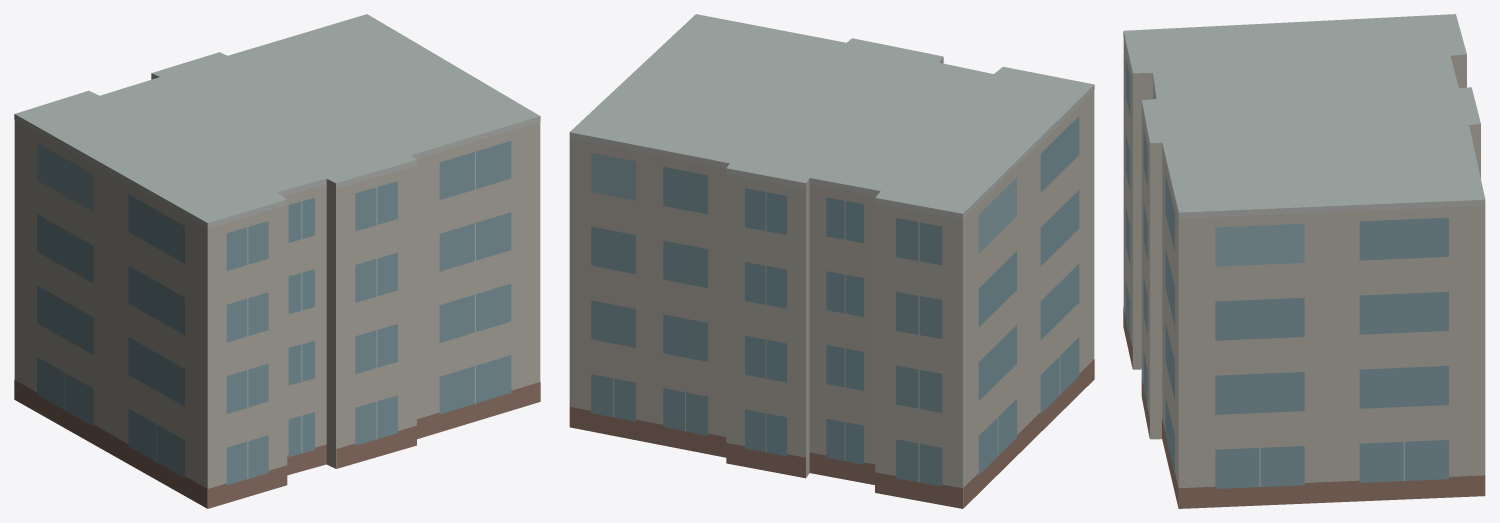
Rendered from survey-upis-32473641.glb.
3 renders of one model, left to right at view 1: azimuth 30°, elevation 25°; view 2: azimuth 150°, elevation 25°; view 3: azimuth 270°, elevation 25°, orthographic. The views are drawn at different scales.
Visible parts, largest first — view 1: survey-upis-32473641.tmp; view 2: survey-upis-32473641.tmp; view 3: survey-upis-32473641.tmp.
Boxes of the visible parts, <box> form: survey-upis-32473641.tmp: <box>14,14,540,508</box>; survey-upis-32473641.tmp: <box>569,14,1094,508</box>; survey-upis-32473641.tmp: <box>1123,14,1485,508</box>.
Bounding box in the file's own units: 17.82 × 12.4 × 13.74.
